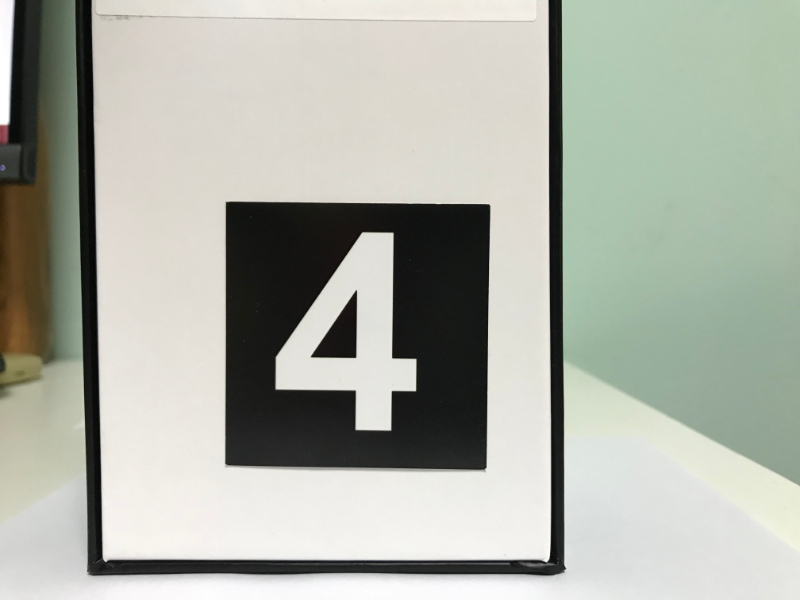Four-9: (227, 203, 486, 466)
